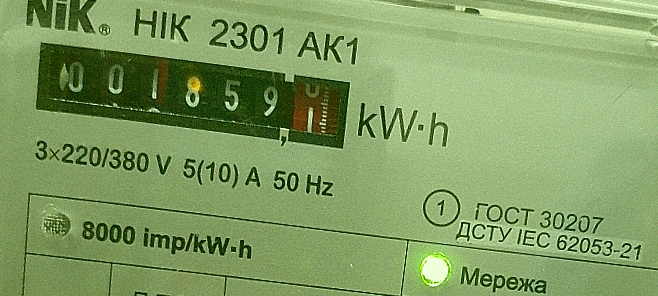0: (64, 57, 88, 95), (104, 60, 127, 96)
1: (147, 64, 162, 101), (301, 102, 318, 134)
5: (219, 75, 244, 113)
8: (181, 72, 205, 109)
9: (258, 82, 281, 118)
screen: (20, 28, 364, 160)
